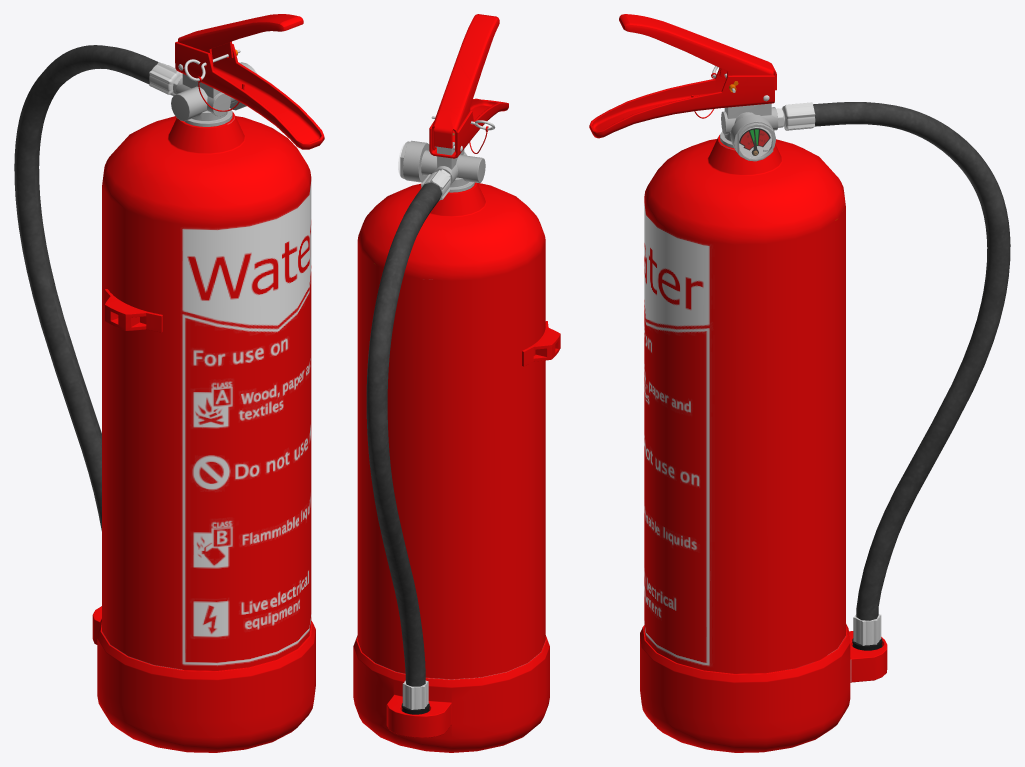
File: water_silinder.glb
The picture shows the model from 3 angles, left to right: view 1: azimuth 30°, elevation 25°; view 2: azimuth 150°, elevation 25°; view 3: azimuth 270°, elevation 25°; orthographic projection. The views are drawn at different scales.
Parts seen in each view (by area): view 1: Water_Mist_Fire_Extinguishe:Powder_Fire_Extinguisher:pCylind, Water_Mist_Fire_Extinguishe:polySurface3_Water_Mist_Fire_Ext, Water_Mist_Fire_Extinguishe:Powder_Fire_Extinguisher:pCube2_, Water_Mist_Fire_Extinguishe:polySurface2_Water_Mist_Fire_Ext, Water_Mist_Fire_Extinguishe:pCube6_Water_Mist_Fire_Extinguis, Water_Mist_Fire_Extinguishe:polySurface4_Water_Mist_Fire_Ext; view 2: Water_Mist_Fire_Extinguishe:Powder_Fire_Extinguisher:pCylind, Water_Mist_Fire_Extinguishe:polySurface3_Water_Mist_Fire_Ext, Water_Mist_Fire_Extinguishe:polySurface2_Water_Mist_Fire_Ext, Water_Mist_Fire_Extinguishe:Powder_Fire_Extinguisher:pCube2_, Water_Mist_Fire_Extinguishe:pCube6_Water_Mist_Fire_Extinguis, Water_Mist_Fire_Extinguishe:polySurface6_Water_Mist_Fire_Ext, Water_Mist_Fire_Extinguishe:polySurface4_Water_Mist_Fire_Ext; view 3: Water_Mist_Fire_Extinguishe:Powder_Fire_Extinguisher:pCylind, Water_Mist_Fire_Extinguishe:polySurface3_Water_Mist_Fire_Ext, Water_Mist_Fire_Extinguishe:Powder_Fire_Extinguisher:pCube2_, Water_Mist_Fire_Extinguishe:polySurface2_Water_Mist_Fire_Ext, Water_Mist_Fire_Extinguishe:Powder_Fire_Extinguisher:polySur, Water_Mist_Fire_Extinguishe:Powder_Fire_Extinguisher:glass_W, Water_Mist_Fire_Extinguishe:polySurface4_Water_Mist_Fire_Ext, Water_Mist_Fire_Extinguishe:polySurface6_Water_Mist_Fire_Ext.
Boxes of the visible parts, x1,y1,x2,y2 form: Water_Mist_Fire_Extinguishe:Powder_Fire_Extinguisher:pCylind: [92, 62, 315, 752]; Water_Mist_Fire_Extinguishe:polySurface3_Water_Mist_Fire_Ext: [14, 45, 158, 530]; Water_Mist_Fire_Extinguishe:Powder_Fire_Extinguisher:pCube2_: [175, 42, 324, 149]; Water_Mist_Fire_Extinguishe:polySurface2_Water_Mist_Fire_Ext: [177, 14, 303, 64]; Water_Mist_Fire_Extinguishe:pCube6_Water_Mist_Fire_Extinguis: [104, 289, 162, 332]; Water_Mist_Fire_Extinguishe:polySurface4_Water_Mist_Fire_Ext: [149, 62, 182, 95]; Water_Mist_Fire_Extinguishe:Powder_Fire_Extinguisher:pCylind: [353, 133, 549, 752]; Water_Mist_Fire_Extinguishe:polySurface3_Water_Mist_Fire_Ext: [366, 182, 442, 686]; Water_Mist_Fire_Extinguishe:polySurface2_Water_Mist_Fire_Ext: [432, 14, 499, 152]; Water_Mist_Fire_Extinguishe:Powder_Fire_Extinguisher:pCube2_: [429, 98, 508, 158]; Water_Mist_Fire_Extinguishe:pCube6_Water_Mist_Fire_Extinguis: [522, 321, 560, 366]; Water_Mist_Fire_Extinguishe:polySurface6_Water_Mist_Fire_Ext: [402, 680, 428, 709]; Water_Mist_Fire_Extinguishe:polySurface4_Water_Mist_Fire_Ext: [421, 170, 450, 200]; Water_Mist_Fire_Extinguishe:Powder_Fire_Extinguisher:pCylind: [640, 103, 887, 752]; Water_Mist_Fire_Extinguishe:polySurface3_Water_Mist_Fire_Ext: [813, 102, 1010, 620]; Water_Mist_Fire_Extinguishe:Powder_Fire_Extinguisher:pCube2_: [589, 68, 774, 138]; Water_Mist_Fire_Extinguishe:polySurface2_Water_Mist_Fire_Ext: [619, 14, 776, 90]; Water_Mist_Fire_Extinguishe:Powder_Fire_Extinguisher:polySur: [737, 123, 773, 161]; Water_Mist_Fire_Extinguishe:Powder_Fire_Extinguisher:glass_W: [739, 127, 772, 159]; Water_Mist_Fire_Extinguishe:polySurface4_Water_Mist_Fire_Ext: [782, 102, 815, 130]; Water_Mist_Fire_Extinguishe:polySurface6_Water_Mist_Fire_Ext: [853, 614, 881, 645].
Bounding box in the file's own units: 0.188 × 0.6563 × 0.353.
Materials: 2 (1 with a texture image).
